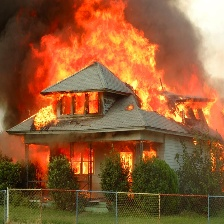fire: (31, 4, 218, 171)
smoke: (137, 1, 224, 79), (1, 1, 53, 116)
